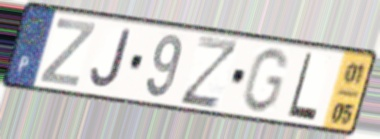9: (144, 33, 183, 99)
G: (239, 46, 291, 116)
J: (88, 27, 133, 90)
L: (285, 50, 320, 123)
Z: (177, 33, 243, 111), (36, 16, 99, 89)
